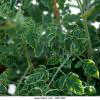Tomato leaf yellow virus: (65, 72, 90, 98), (25, 65, 52, 86), (82, 56, 99, 82), (25, 26, 41, 52), (18, 87, 46, 99), (48, 34, 62, 57), (72, 29, 93, 40), (34, 39, 45, 59), (63, 37, 75, 55), (45, 53, 62, 65), (56, 75, 69, 89), (16, 26, 30, 36), (58, 32, 69, 43), (66, 24, 81, 31)
